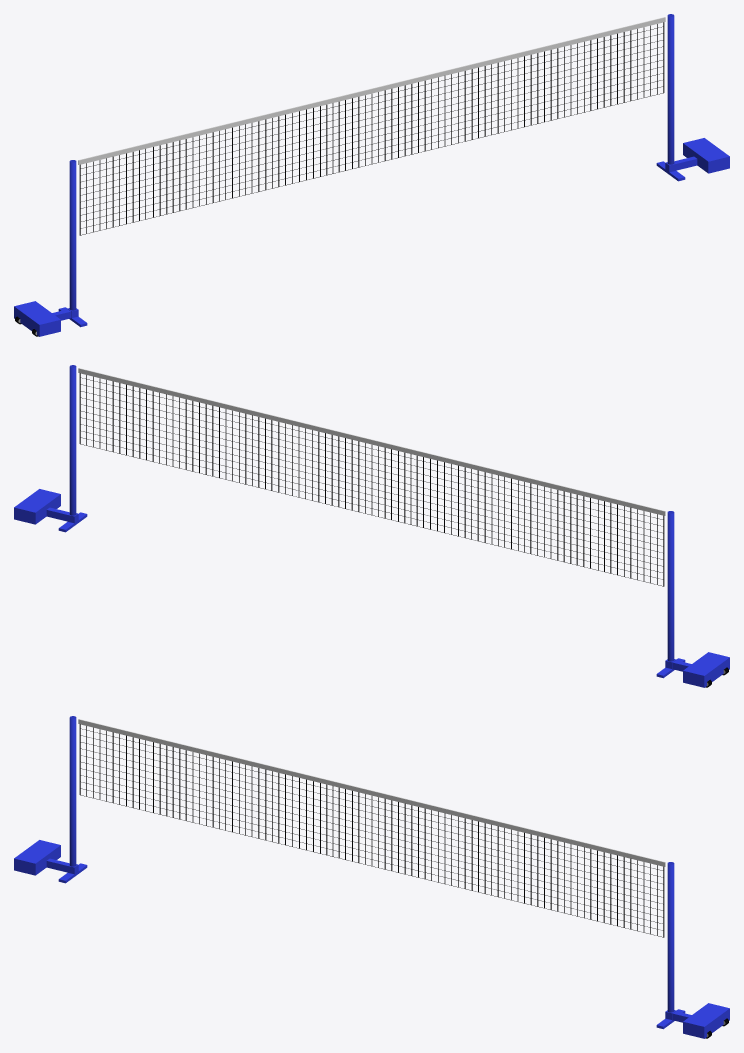
Rendered from rede.fbx.
The picture shows the model from 3 angles, top to bottom: view 1: azimuth 30°, elevation 25°; view 2: azimuth 150°, elevation 25°; view 3: azimuth 330°, elevation 25°; orthographic projection.
Visible parts, largest first — view 1: fios, faixa, caixa, caixa.001, pole, pole.001; view 2: fios, faixa, caixa, caixa.001, pole, pole.001; view 3: fios, faixa, caixa.001, caixa, pole.001, pole.
Boxes of the visible parts, <box> form: fios: <box>79,22,664,235</box>; faixa: <box>78,17,665,164</box>; caixa: <box>674,138,729,173</box>; caixa.001: <box>14,301,71,336</box>; pole: <box>667,14,674,164</box>; pole.001: <box>69,160,76,310</box>; fios: <box>79,373,664,586</box>; faixa: <box>78,368,665,515</box>; caixa: <box>14,489,69,524</box>; caixa.001: <box>672,652,729,687</box>; pole: <box>69,365,76,515</box>; pole.001: <box>667,511,674,661</box>; fios: <box>79,724,664,937</box>; faixa: <box>78,719,665,866</box>; caixa.001: <box>14,840,69,875</box>; caixa: <box>672,1003,729,1038</box>; pole.001: <box>69,716,76,866</box>; pole: <box>667,862,674,1012</box>.
Size of the model in its own units: 716 by 155 by 45.61.
